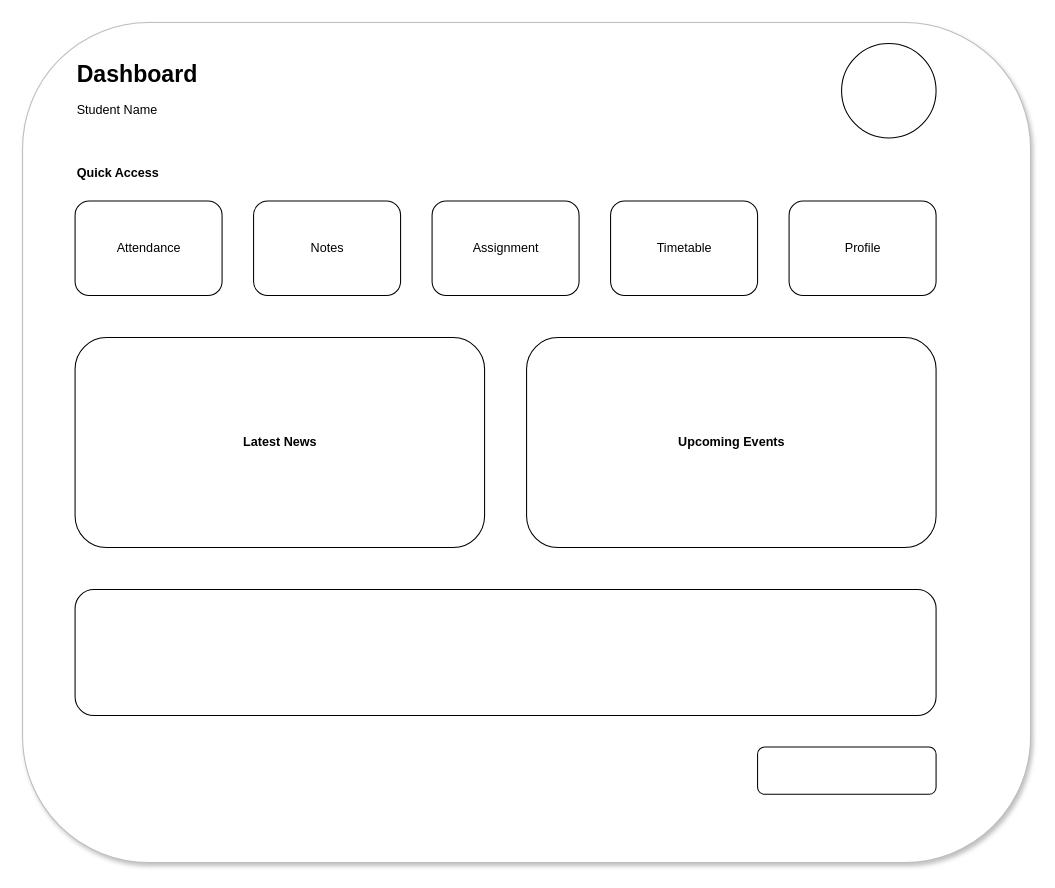
This 1055x888 diagram has some shape labels left out. Each missing label, with the centre of its shape:
LOGO: point (888, 90)
Logout: point (846, 770)
Notice Board: point (505, 652)
